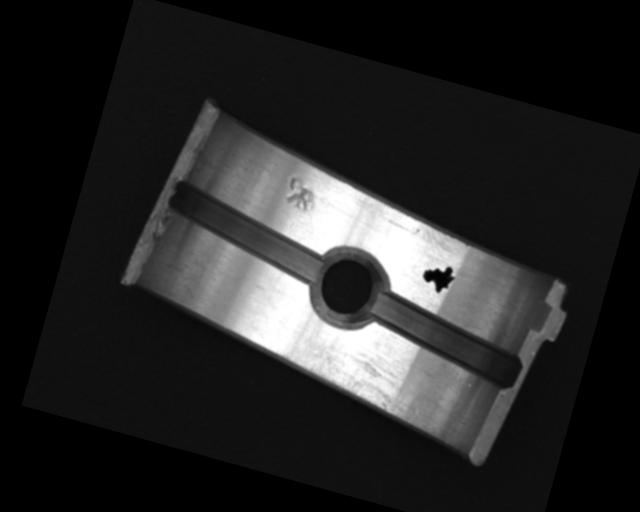blot: (418, 259, 459, 297)
bruise: (282, 174, 322, 214)
gap: (157, 178, 335, 288), (358, 289, 531, 391)
hole: (301, 244, 394, 337)
scratch: (274, 323, 433, 427)
